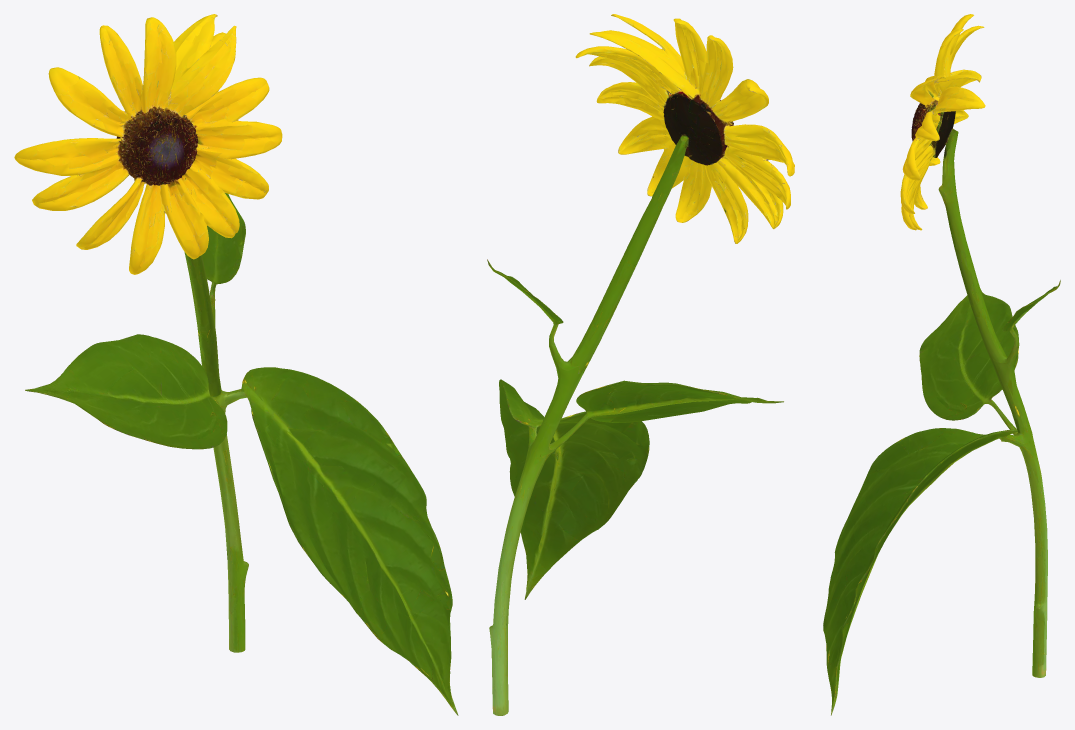
Rendered from rudbeckia-08.glb.
3 renders of one model, left to right at view 1: azimuth 30°, elevation 25°; view 2: azimuth 150°, elevation 25°; view 3: azimuth 270°, elevation 25°, orthographic. The views are drawn at different scales.
Size of the model in its own units: 1.02 by 1.9 by 0.6914.
1 material, 1 textured.
